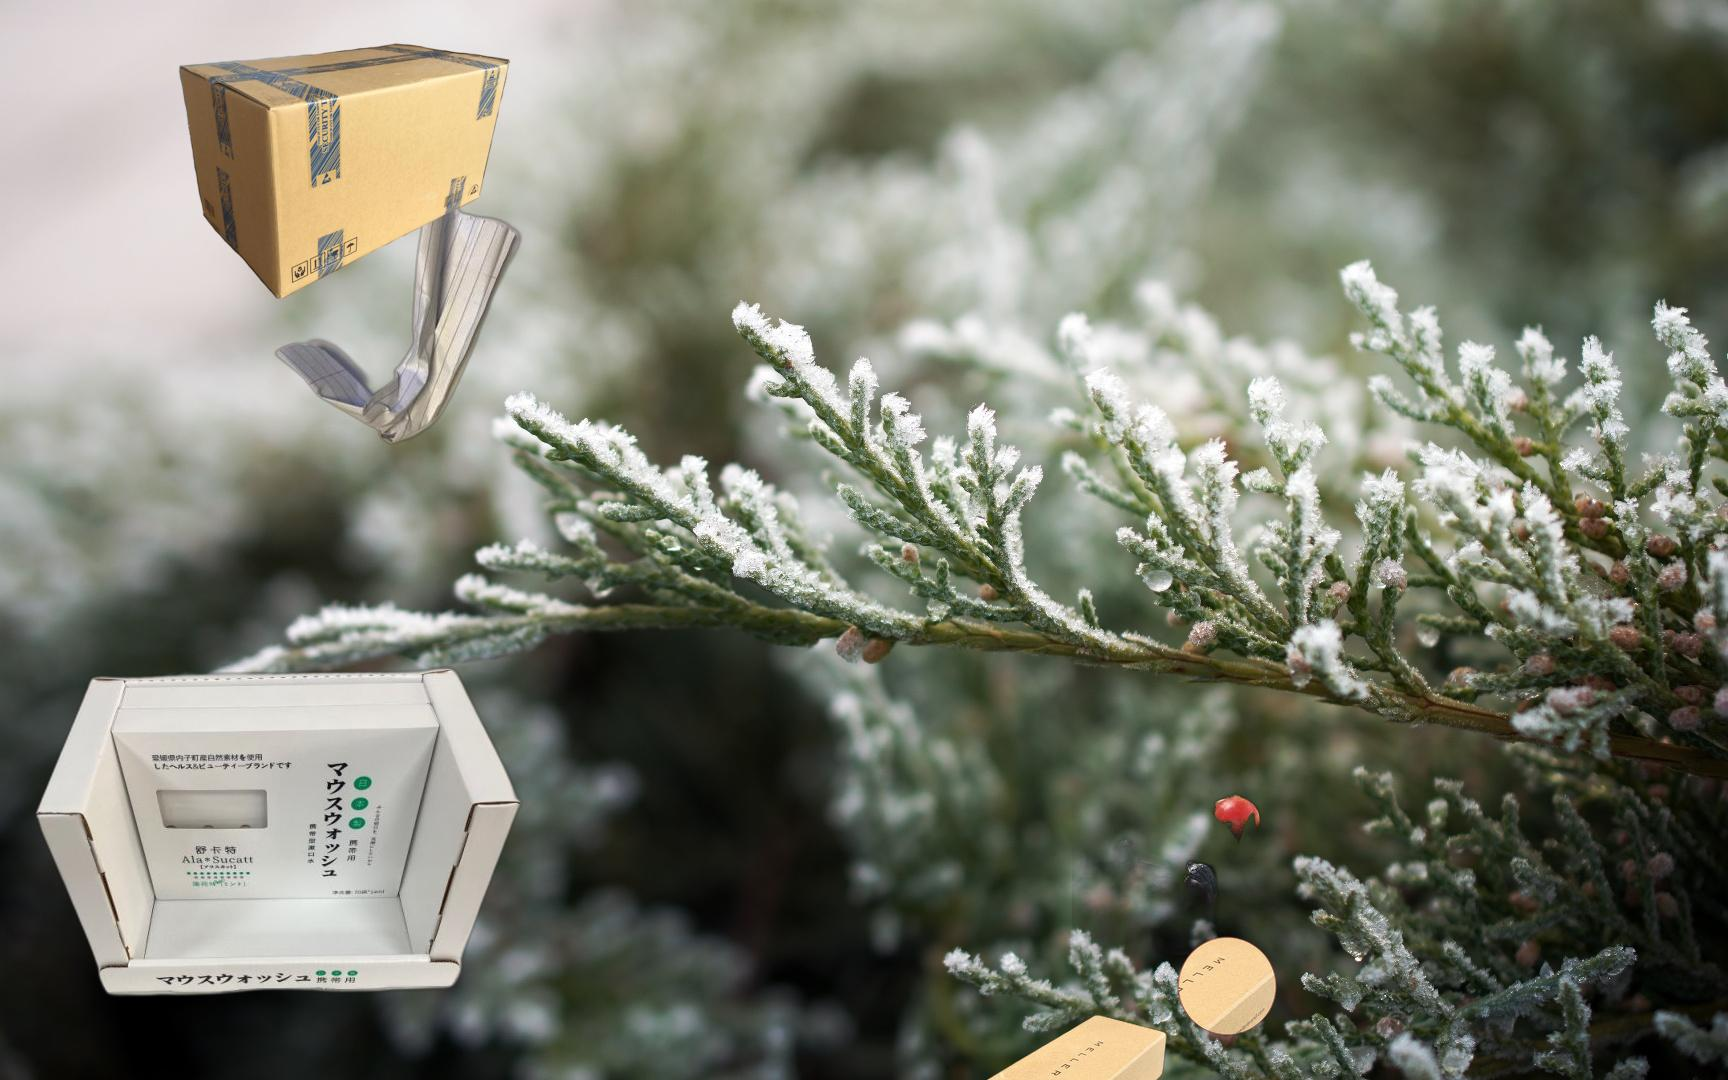biological: (1072, 771, 1331, 956)
paper: (271, 193, 525, 448)
trashbox-cardboard: (31, 664, 526, 1002), (178, 42, 511, 300), (964, 933, 1280, 1080)
